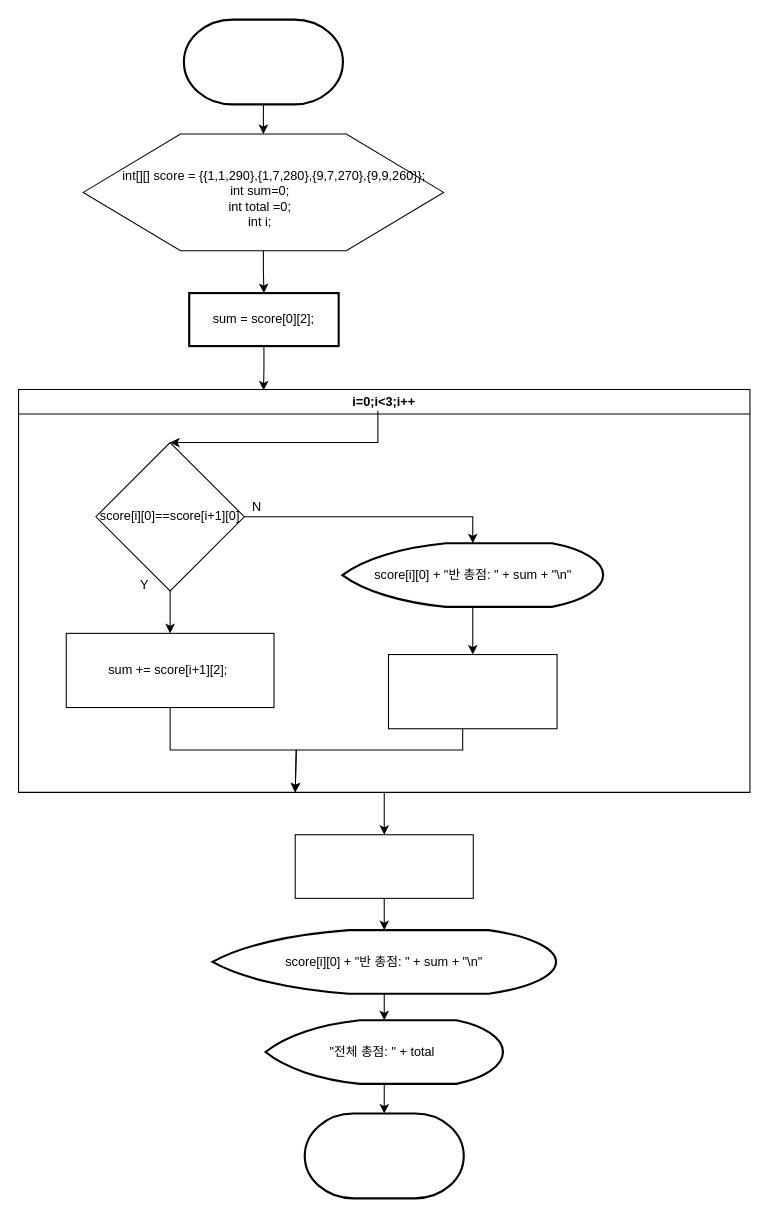
Image size: 768x1217. Some labels were removed from this diagram. Here are the shapes that lost their labels. From the top down, the box of each, then its label:
(182, 18, 343, 105): START
(387, 653, 557, 729): total+=sum; sum = score[i+1][2];
(294, 834, 473, 898): total += sum;
(303, 1112, 464, 1199): END
